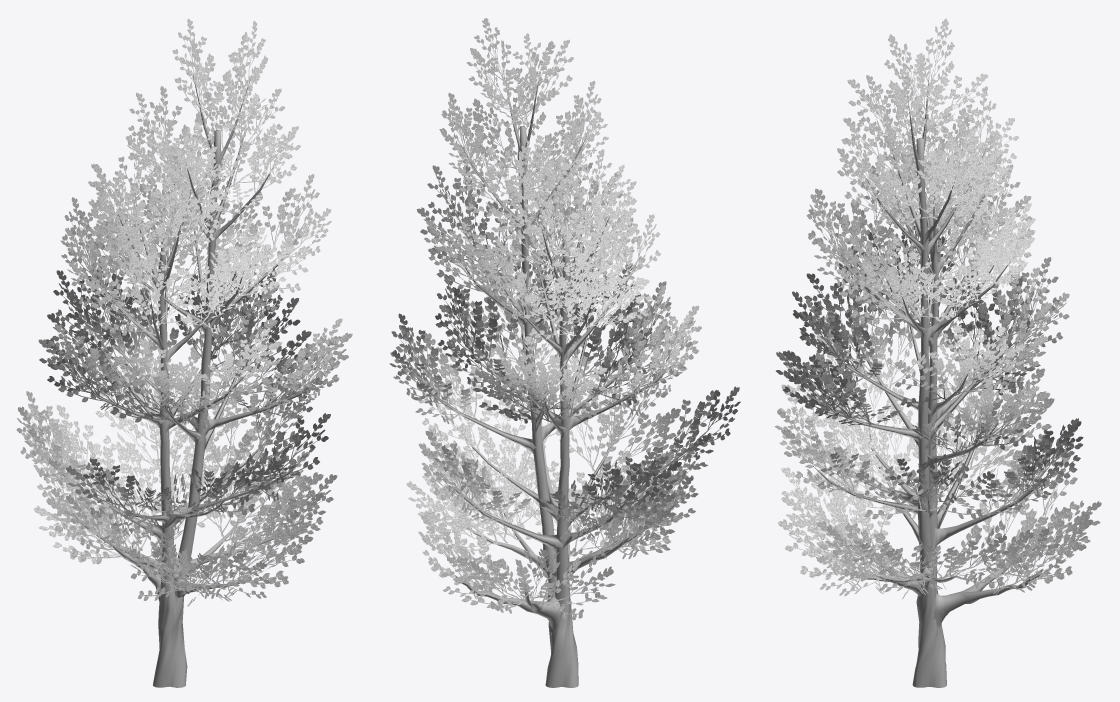
Rendered from tree_zelkova.glb.
3 views of the same model, side by side, from view 1: azimuth 30°, elevation 25°; view 2: azimuth 150°, elevation 25°; view 3: azimuth 270°, elevation 25° (orthographic). The views are drawn at different scales.
Parts seen in each view (by area): view 1: tree_zelkova; view 2: tree_zelkova; view 3: tree_zelkova.
Part boxes in pixels (x1,y1,x2,y2): tree_zelkova: (16, 18, 352, 687); tree_zelkova: (389, 18, 740, 687); tree_zelkova: (774, 18, 1101, 687).
Size of the model in its own units: 4.53 by 10 by 4.45.
Materials: 1 (1 with a texture image).
